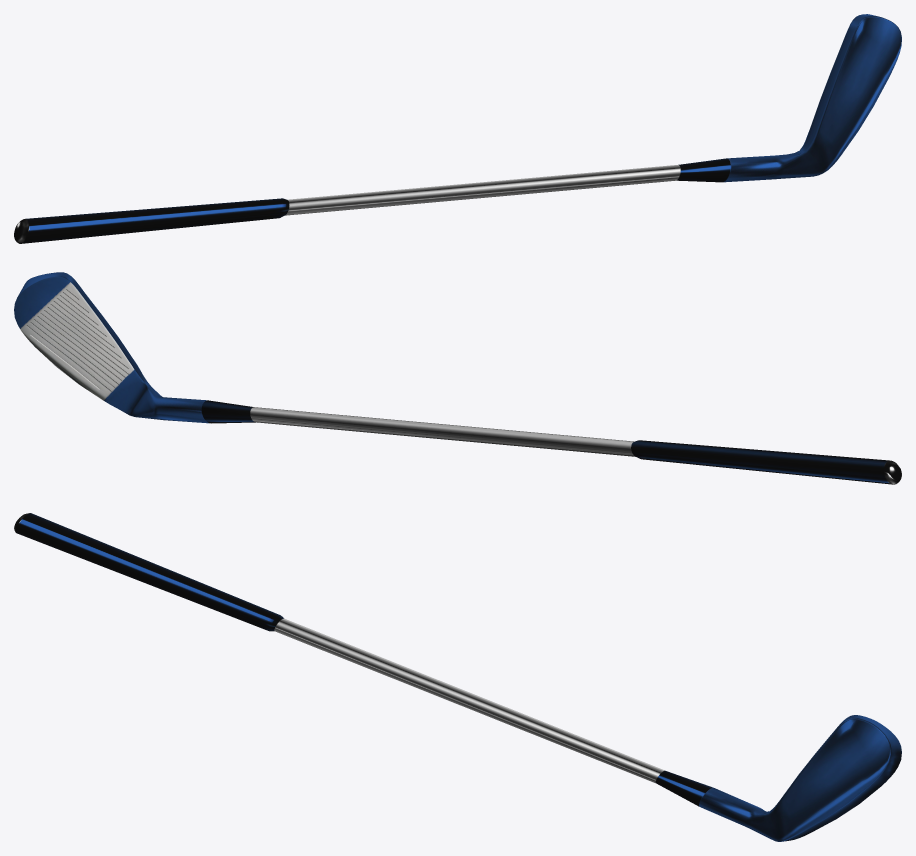
File: sketchfab-golf_club_iron-optimize.glb
3 renders of one model, top to bottom at view 1: azimuth 30°, elevation 25°; view 2: azimuth 150°, elevation 25°; view 3: azimuth 330°, elevation 25°, orthographic. The views are drawn at different scales.
Parts seen in each view (by area): view 1: Material1-material-material; view 2: Material1-material-material; view 3: Material1-material-material.
Boxes of the visible parts, x1=… form: Material1-material-material: x1=14, y1=14, x2=901, y2=243; Material1-material-material: x1=14, y1=272, x2=901, y2=484; Material1-material-material: x1=14, y1=513, x2=901, y2=841.
Bounding box in the file's own units: 0.9916 × 0.1531 × 0.0629.
Materials: 1 (1 with a texture image).
